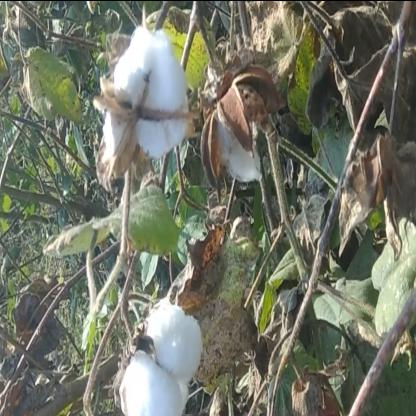cotton_ready: (75, 16, 210, 184), (112, 304, 214, 415)
